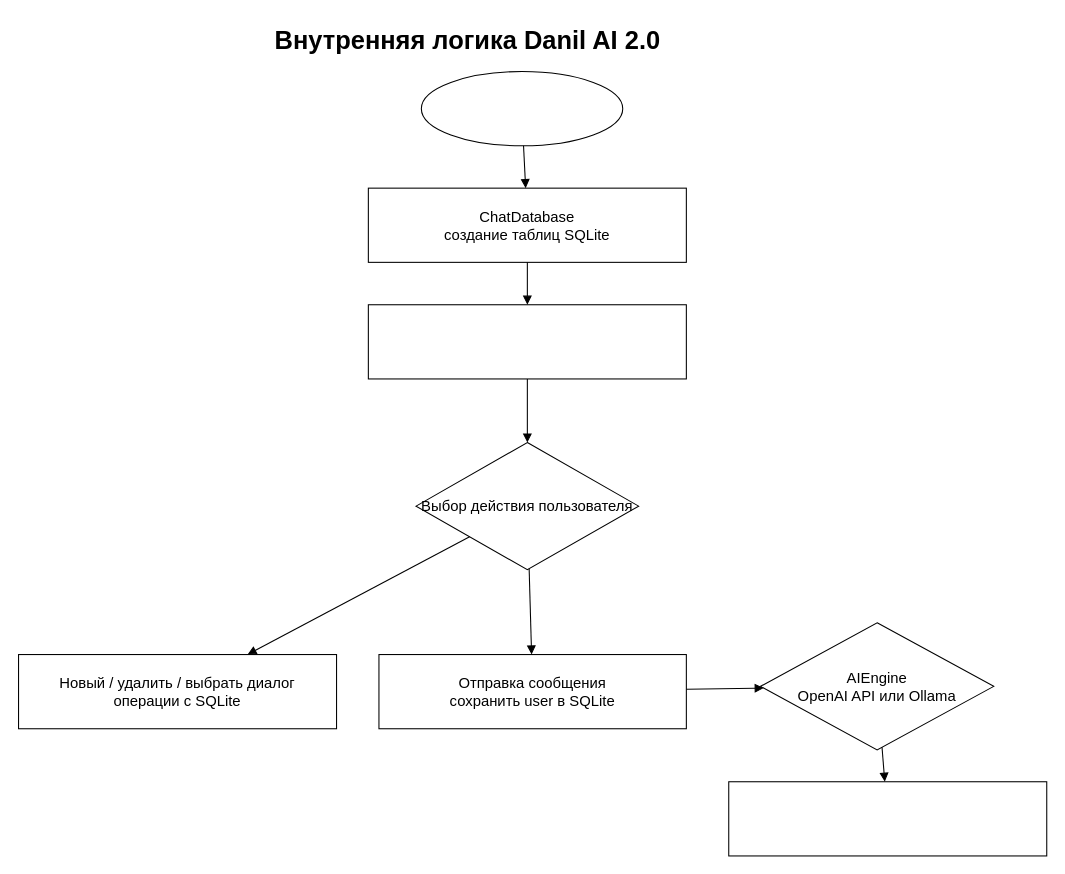
This 1065x874 diagram has some shape labels left out. The shapes that lost their labels are listed below. From the top down, each one's centre as x and y in pixels, then its label:
point 521,108: Запуск danilAi.py
point 526,341: AIAssistant создание интерфейса
point 887,818: Показать ответ и сохранить assistant в SQLite
